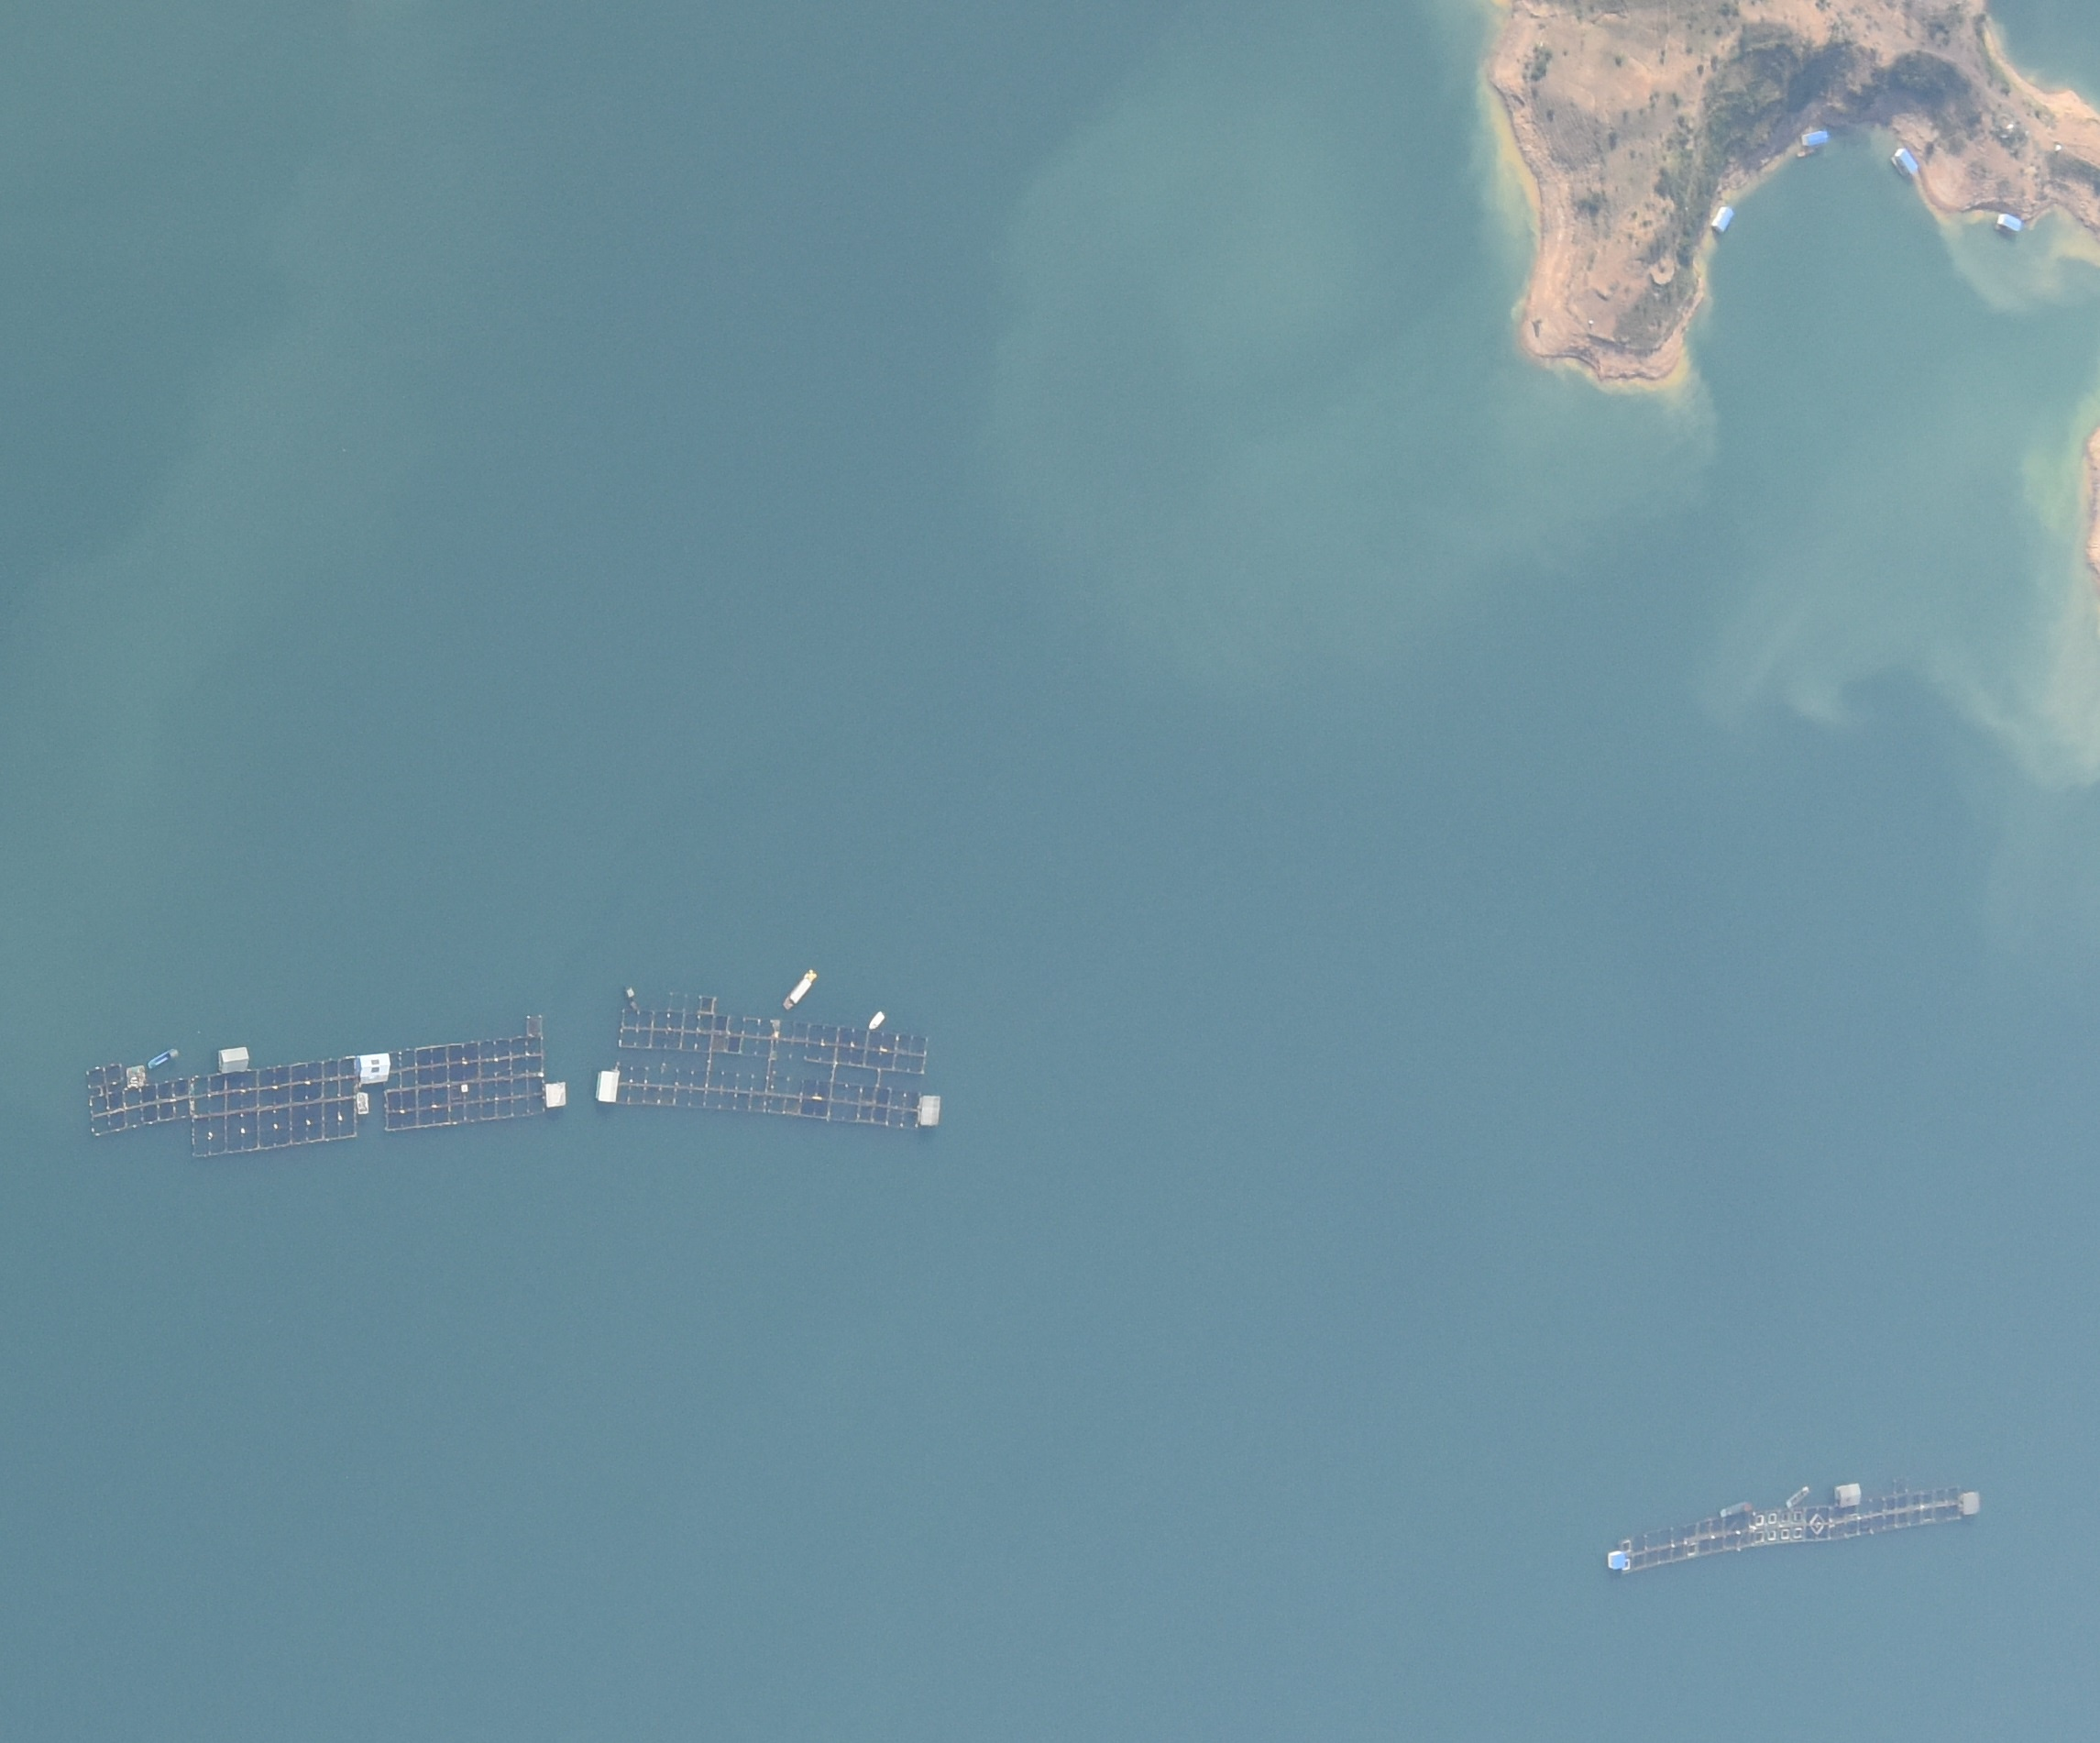cultivation-mesh-cage: (615, 987, 923, 1129), (1622, 1485, 1961, 1575), (383, 1017, 546, 1134), (190, 1060, 362, 1157), (82, 1062, 189, 1137)
prefabricated-house: (359, 1053, 391, 1083), (1890, 147, 1919, 180), (593, 1068, 619, 1104), (217, 1048, 252, 1073), (544, 1078, 569, 1110), (921, 1095, 942, 1128), (1995, 211, 2023, 235), (1835, 1483, 1862, 1507), (1712, 206, 1733, 232), (1801, 129, 1830, 148), (1961, 1492, 1981, 1515), (126, 1066, 147, 1087), (356, 1089, 368, 1115), (1607, 1551, 1622, 1568)
ship: (781, 968, 816, 1009), (1785, 1486, 1813, 1508), (1721, 1500, 1752, 1517), (146, 1050, 178, 1065), (868, 1011, 885, 1031)
